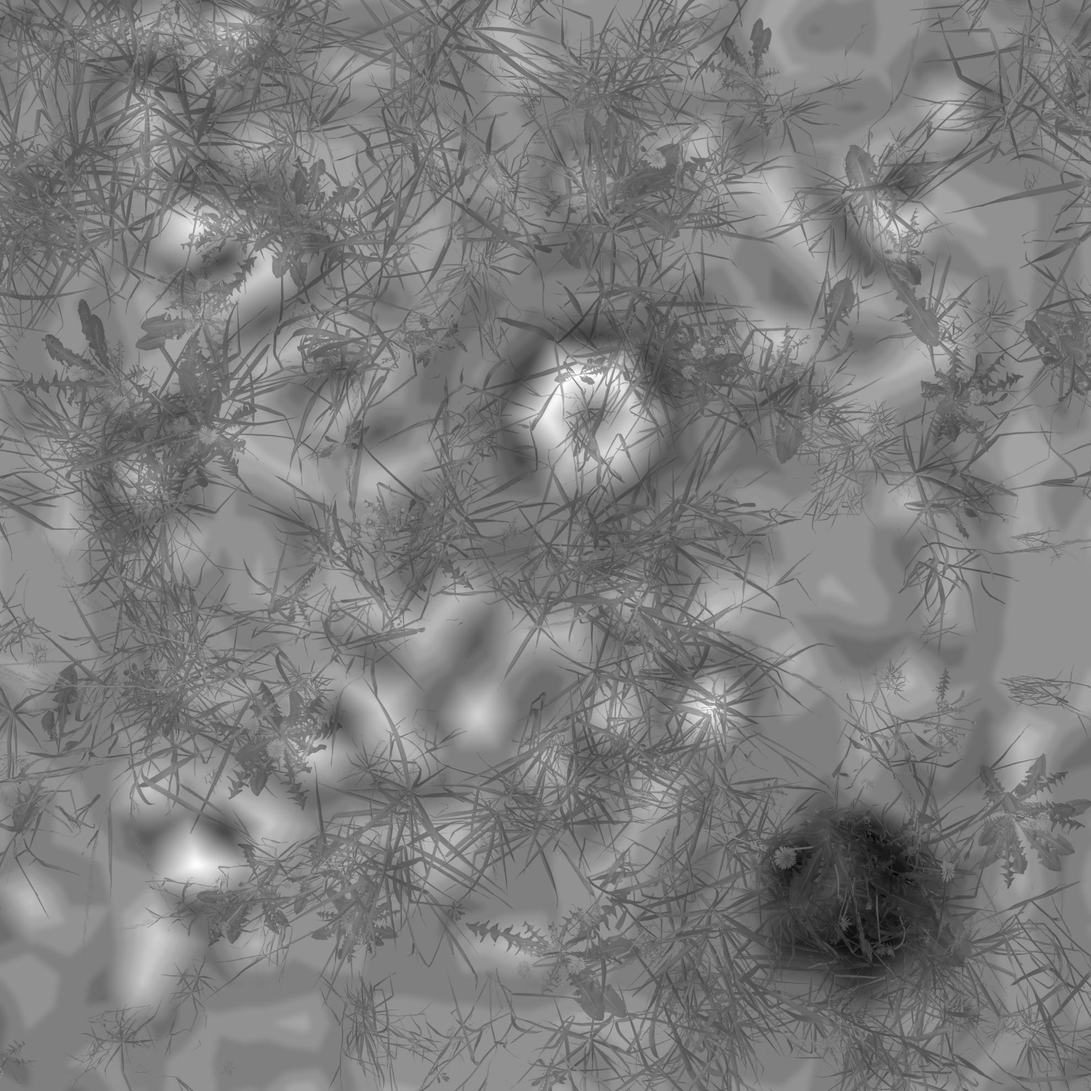landmine: (491, 319, 692, 513), (758, 804, 945, 981)
